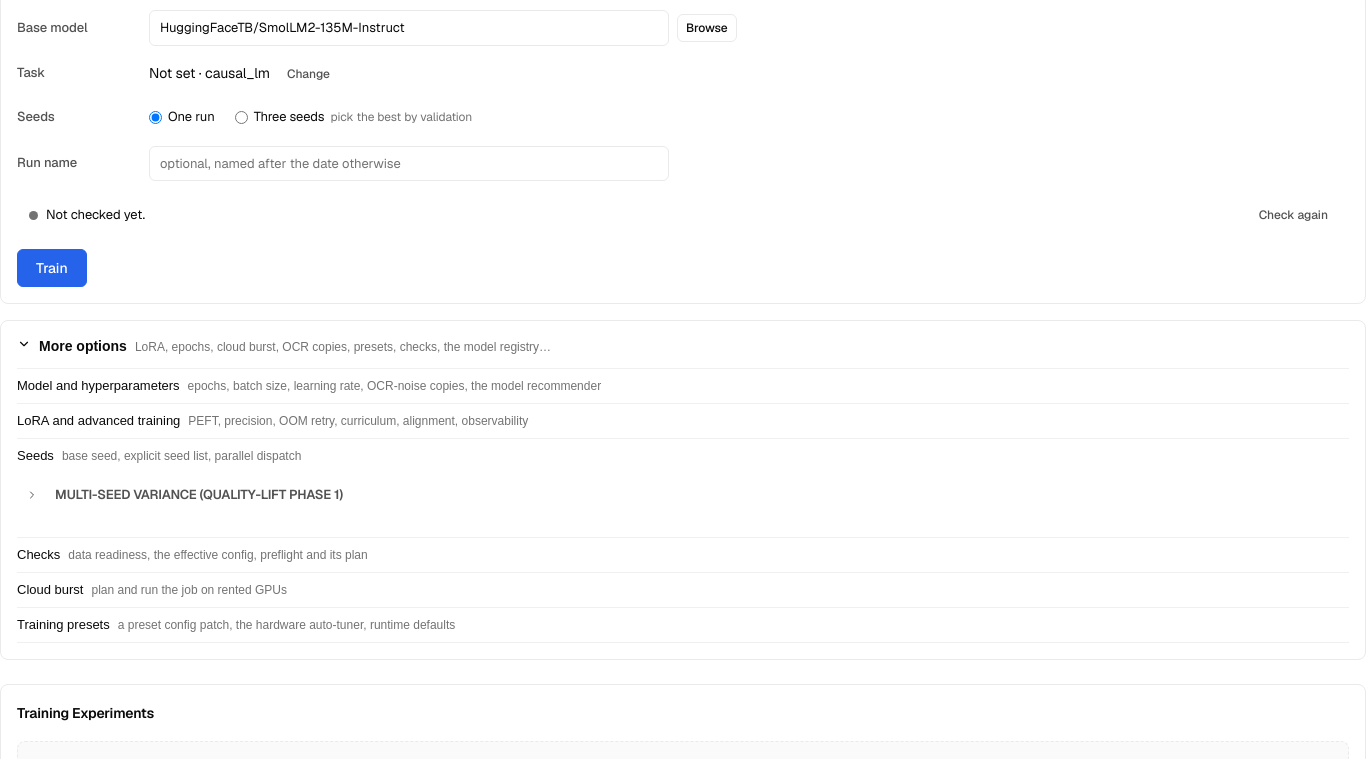
it: TrainingPanel — multi-seed variance section (phase 7 slice 3) › bumping count above 1 surfaces the variance preview + active badge
The width and height of the screenshot is (1366, 759).
Click the button with test id "training-multi-seed-toggle".
click(32, 495)  # box [17,481,47,509]
(page scrolled)
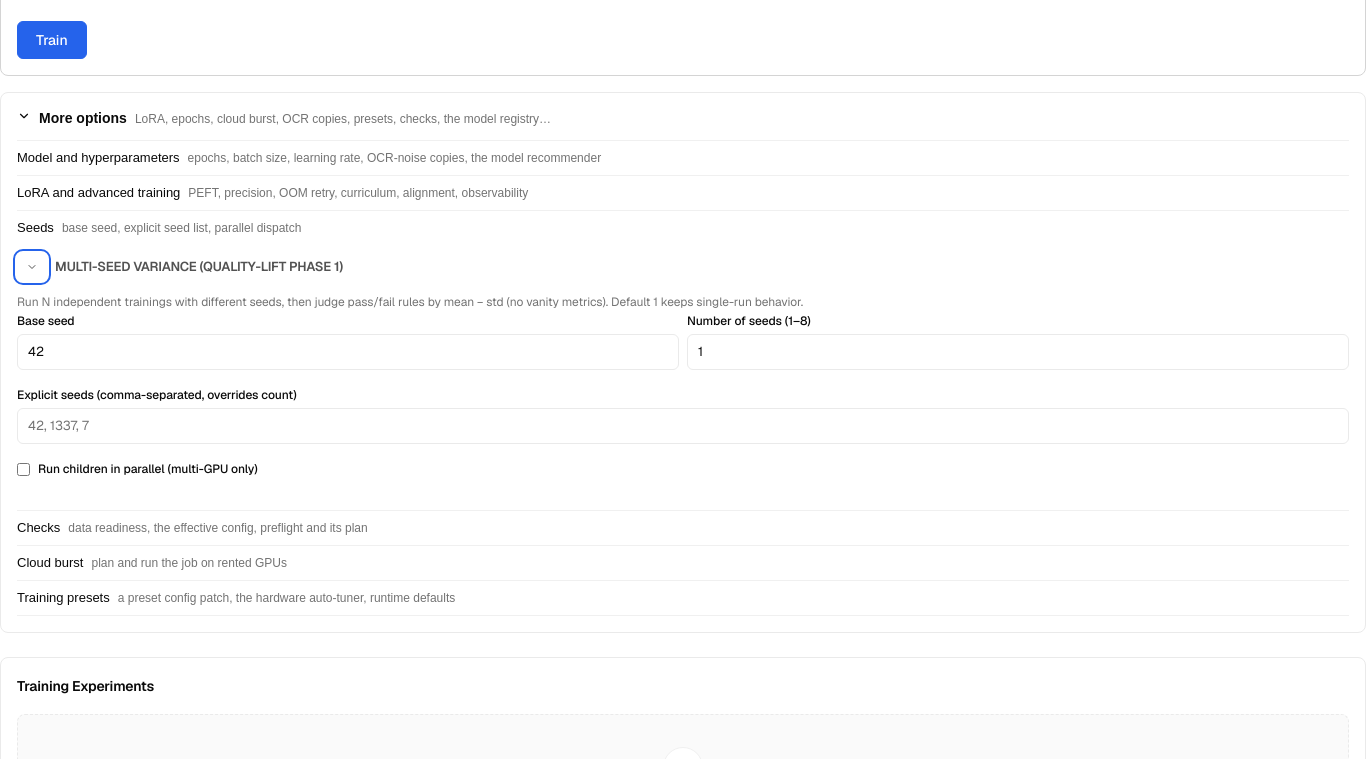
Replace the text in the number field with test id "training-multi-seed-count" with "3" at x=1018, y=352, box [687,334,1349,370]
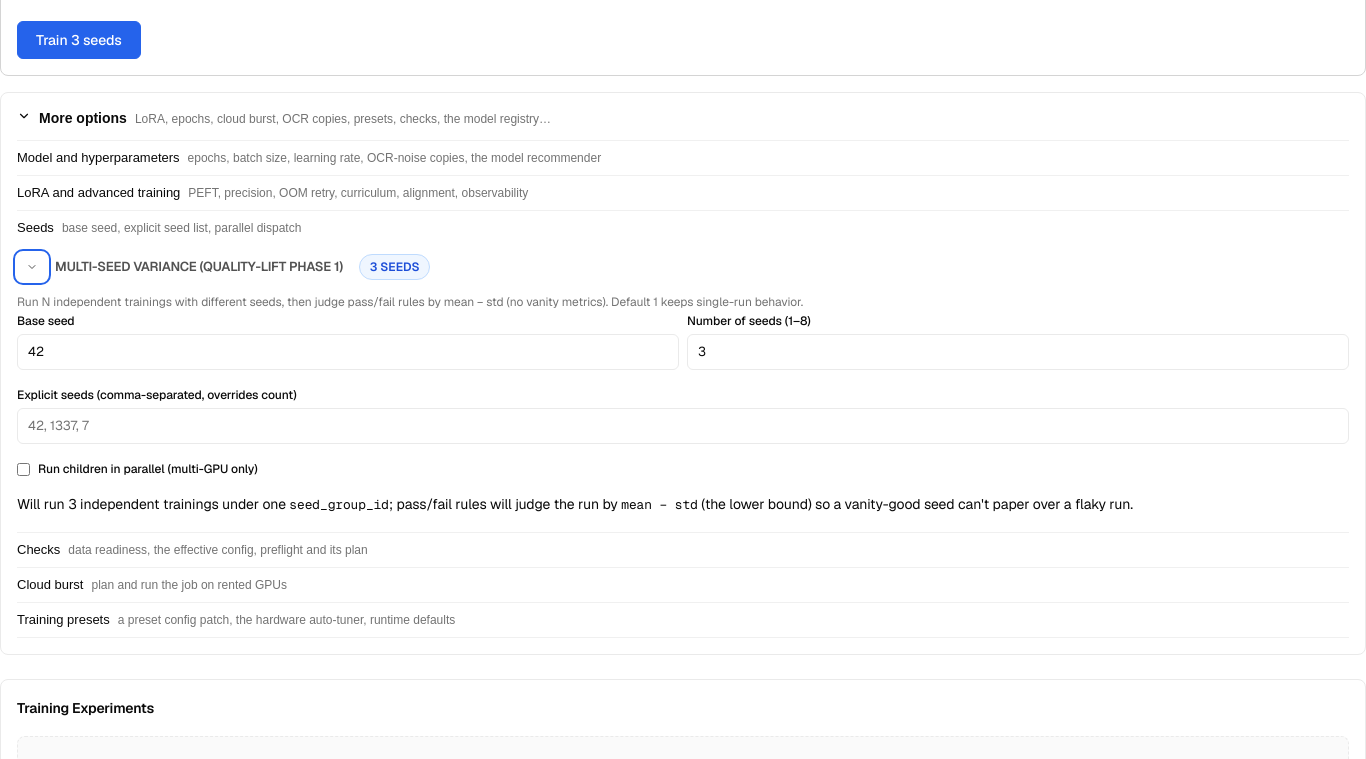
Check: the element with test id "training-multi-seed-variance-preview" shows "3 independent trainings", box [17,495,1133,513]
Check: the text with test id "training-multi-seed-active-badge" shows "3", box [370,259,377,275]
